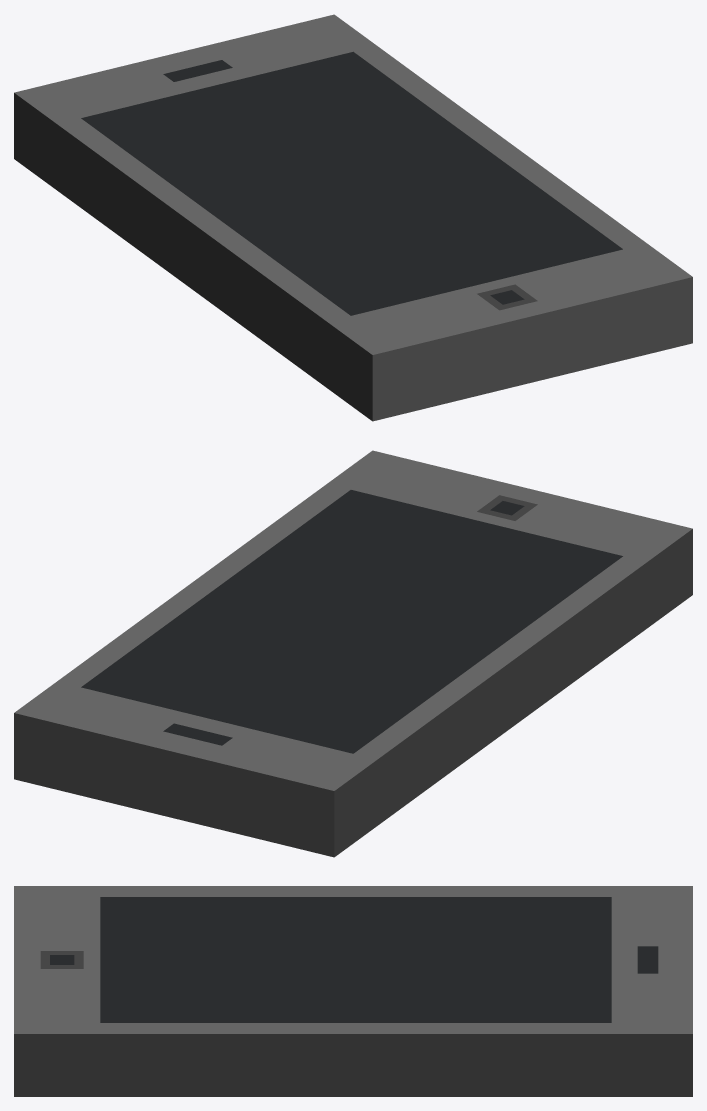
File: SM_Prop_SmartPhone_01.fbx
3 views of the same model, one above another, from view 1: azimuth 30°, elevation 25°; view 2: azimuth 150°, elevation 25°; view 3: azimuth 270°, elevation 25° (orthographic). The views are drawn at different scales.
Visible parts, largest first — view 1: SM_Prop_SmartPhone_01; view 2: SM_Prop_SmartPhone_01; view 3: SM_Prop_SmartPhone_01.
Boxes of the visible parts, x1,y1,x2,y2 form: SM_Prop_SmartPhone_01: (14, 14, 692, 421); SM_Prop_SmartPhone_01: (14, 450, 692, 857); SM_Prop_SmartPhone_01: (14, 886, 692, 1096).
Bounding box in the file's own units: 13.61 × 2.69 × 26.39.
